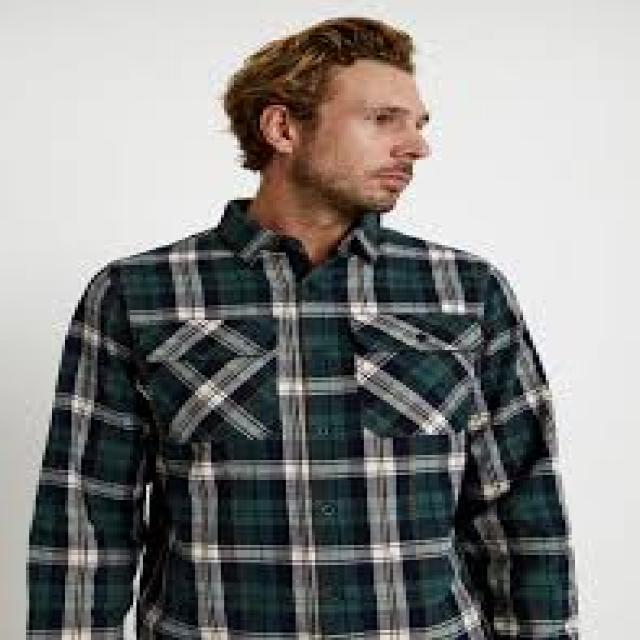plaid: (41, 207, 582, 640)
